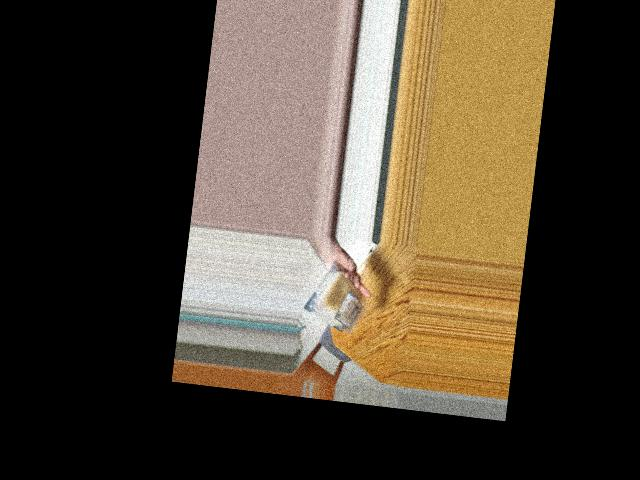cheese: (309, 265, 370, 338)
